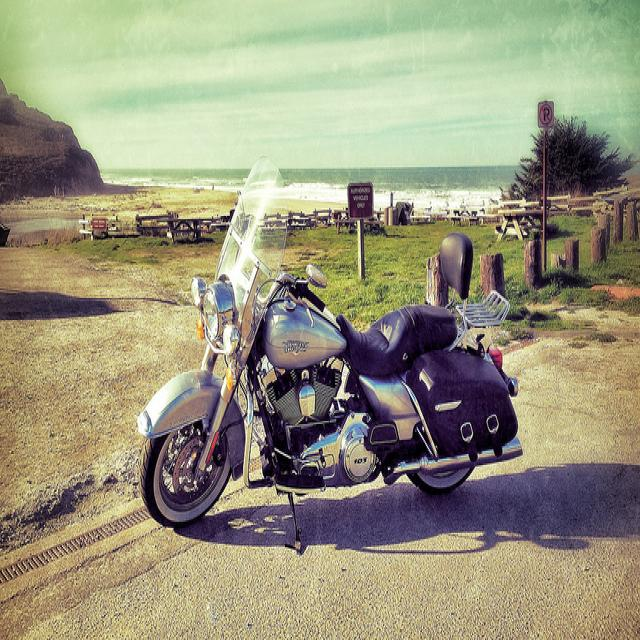motor: (138, 148, 527, 553)
